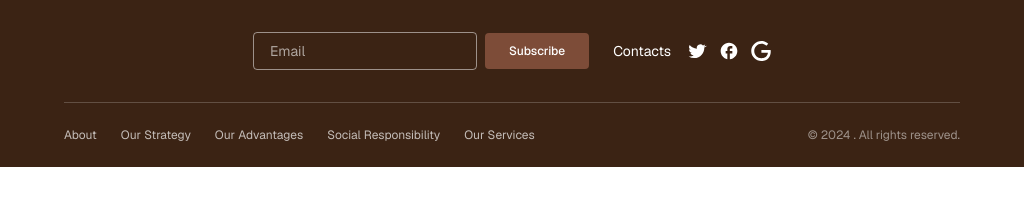
Scenario: Footer Subscription Form — Formik Validation › should reject an invalid email format
Type "not-an-email" into the field with placeholder "Email" at (365, 51), box left=253, top=32, right=477, bottom=70
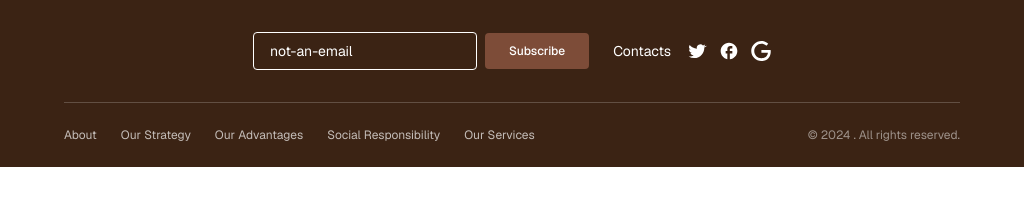
Click the button "Subscribe" at (537, 51), box left=485, top=33, right=589, bottom=69
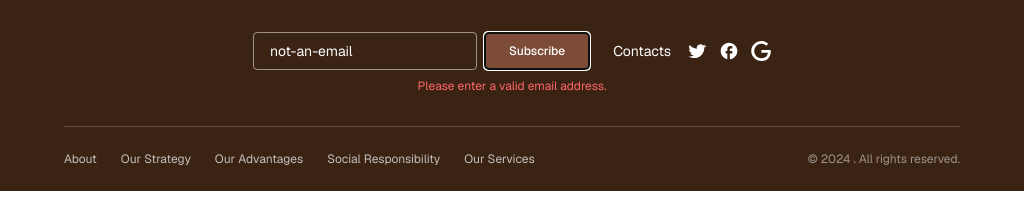
Check: the text "Please enter a valid email address." is shown, box left=418, top=78, right=606, bottom=94
